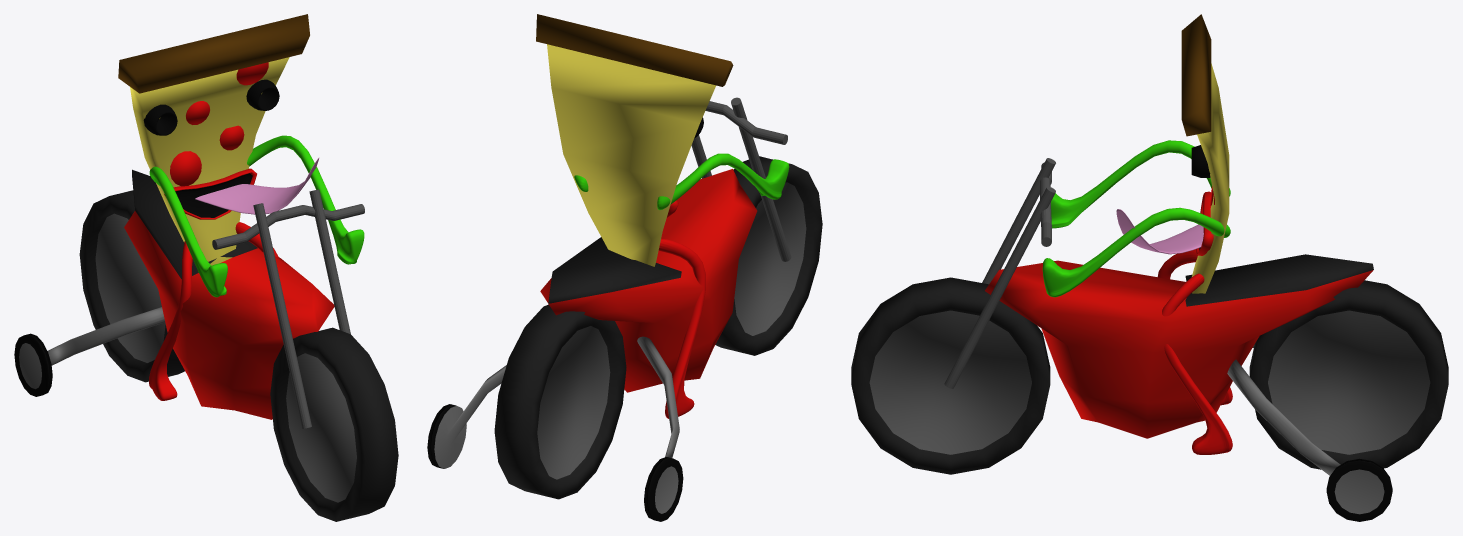
The model's file is moto.fbx.
3 views of the same model, side by side, from view 1: azimuth 30°, elevation 25°; view 2: azimuth 150°, elevation 25°; view 3: azimuth 270°, elevation 25° (orthographic). The views are drawn at different scales.
Parts seen in each view (by area): view 1: Cube, Plane, Cylinder; view 2: Cube, Plane, Cylinder; view 3: Cube, Plane, Cylinder.
Part boxes in pixels (x1,y1,x2,y2): Cube: (79,169,398,521); Plane: (118,14,364,400); Cylinder: (14,307,164,396); Cube: (494,97,822,499); Plane: (536,14,789,418); Cylinder: (427,336,683,521); Cube: (851,158,1448,474); Plane: (1042,14,1232,454); Cylinder: (1227,345,1392,521).
Bounding box in the file's own units: 263 × 448 × 600.
